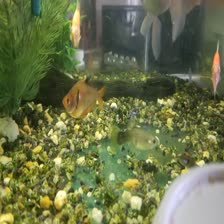Guppy: (107, 122, 162, 154)
Plano: (62, 0, 82, 47), (208, 42, 221, 96)
Transparente: (61, 76, 105, 117)
